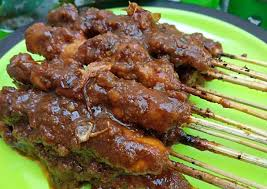sate: (1, 3, 236, 189)
